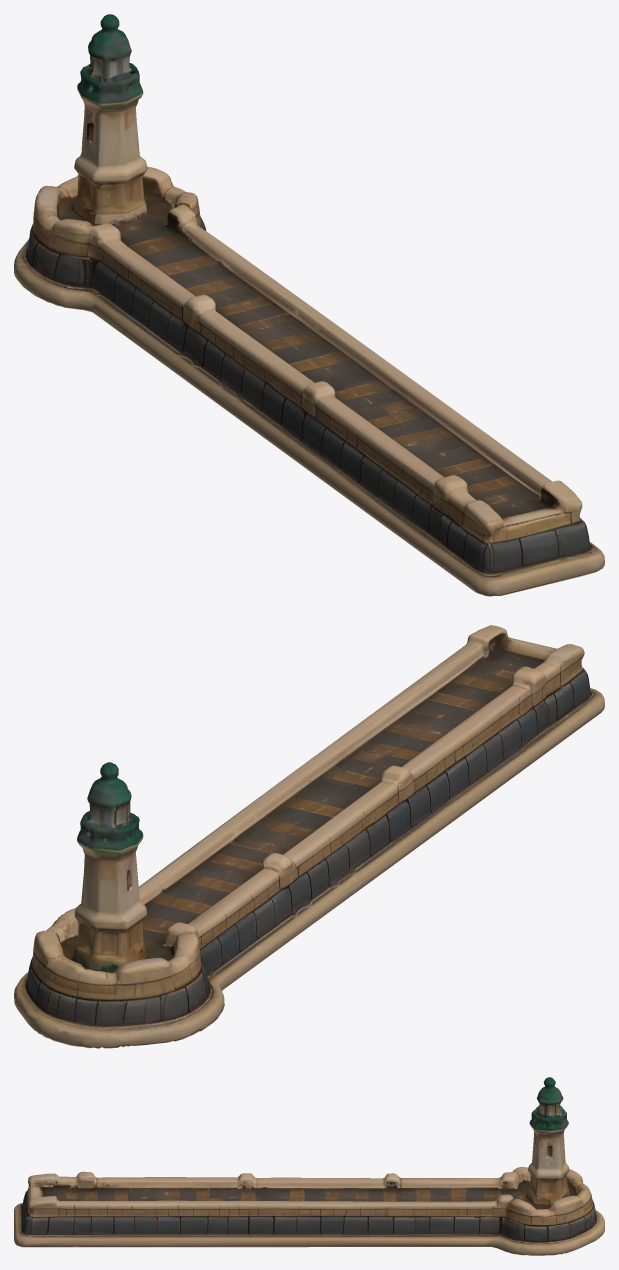
Rendered from switzerland-jet-d-eau.glb.
3 renders of one model, top to bottom at view 1: azimuth 30°, elevation 25°; view 2: azimuth 150°, elevation 25°; view 3: azimuth 270°, elevation 25°, orthographic. The views are drawn at different scales.
Parts seen in each view (by area): view 1: textured_mesh.obj; view 2: textured_mesh.obj; view 3: textured_mesh.obj.
Part boxes in pixels (left/top/right/bottom): textured_mesh.obj: left=14, top=14, right=604, bottom=596; textured_mesh.obj: left=14, top=625, right=604, bottom=1048; textured_mesh.obj: left=14, top=1077, right=604, bottom=1255.
Size of the model in its own units: 0.7665 by 1 by 3.52.
1 material, 1 textured.
